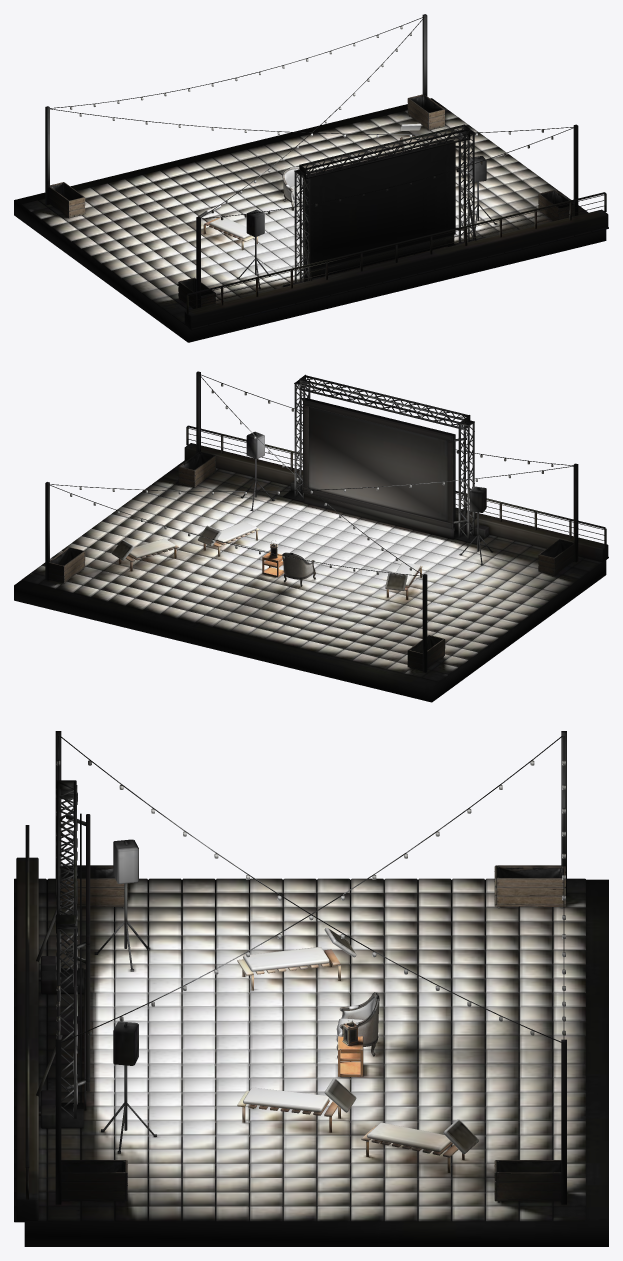
The model's file is terrace_glow.glb.
3 views of the same model, one above another, from view 1: azimuth 30°, elevation 25°; view 2: azimuth 150°, elevation 25°; view 3: azimuth 270°, elevation 25° (orthographic). The views are drawn at different scales.
Parts seen in each view (by area): view 1: terrace, terrace_props; view 2: terrace, terrace_props; view 3: terrace, terrace_props.
Part boxes in pixels (box(x1,y1,x2,y2)): terrace: box(14, 14, 608, 342); terrace_props: box(49, 94, 574, 308); terrace: box(14, 371, 608, 702); terrace_props: box(48, 451, 574, 670); terrace: box(14, 731, 608, 1246); terrace_props: box(56, 865, 566, 1202).
Bounding box in the file's own units: 14.45 × 4.48 × 10.59.
Materials: 2 (2 with a texture image).
